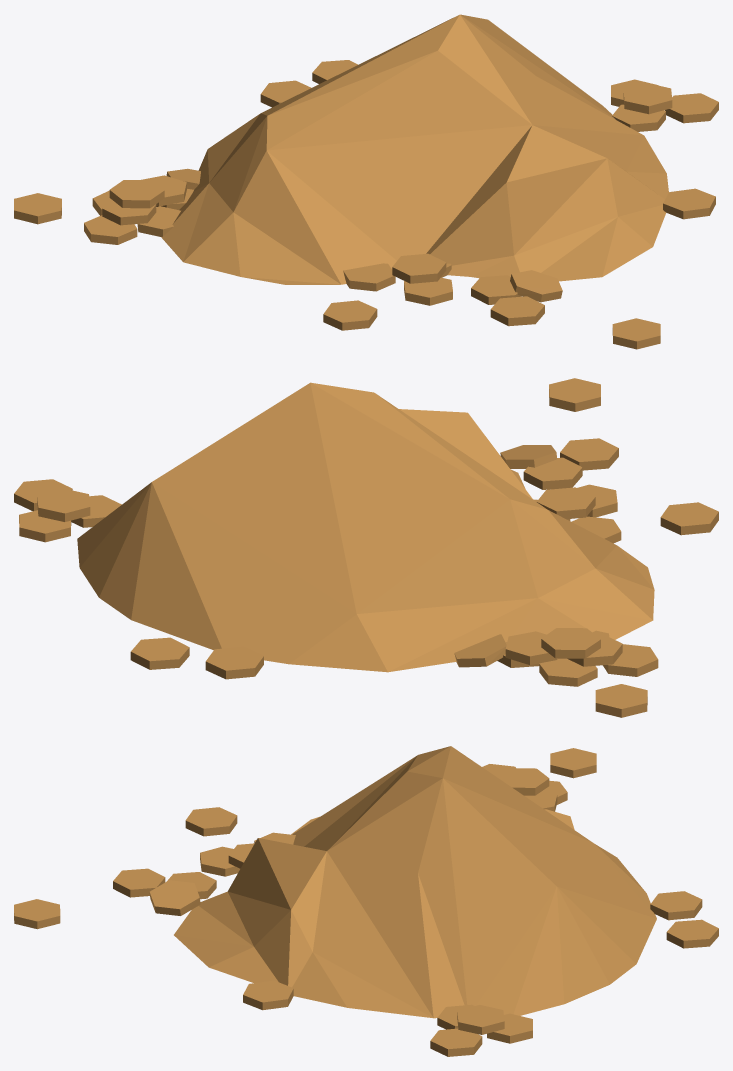
The model's file is SM_Prop_TreasurePile_01.glb.
3 renders of one model, top to bottom at view 1: azimuth 30°, elevation 25°; view 2: azimuth 150°, elevation 25°; view 3: azimuth 270°, elevation 25°, orthographic. The views are drawn at different scales.
Parts seen in each view (by area): view 1: SM_Prop_TreasurePile_01_part00; view 2: SM_Prop_TreasurePile_01_part00; view 3: SM_Prop_TreasurePile_01_part00.
Part boxes in pixels (<box>): SM_Prop_TreasurePile_01_part00: <box>14,14,718,349</box>; SM_Prop_TreasurePile_01_part00: <box>14,378,718,717</box>; SM_Prop_TreasurePile_01_part00: <box>14,746,718,1056</box>.
Bounding box in the file's own units: 1.14 × 0.2774 × 1.12.
1 material, 1 textured.
